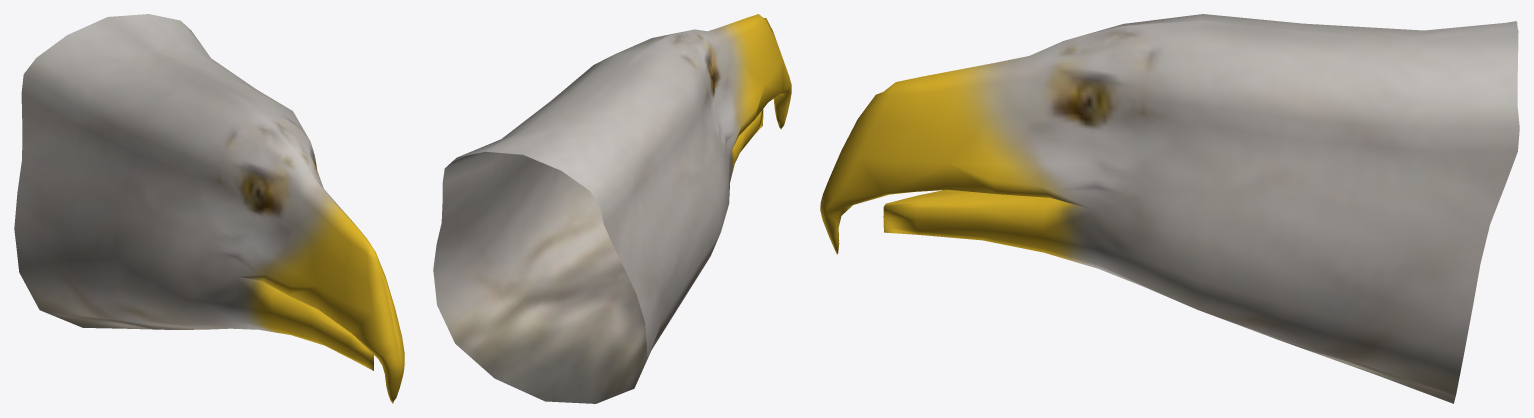
File: head.obj
The picture shows the model from 3 angles, left to right: view 1: azimuth 30°, elevation 25°; view 2: azimuth 150°, elevation 25°; view 3: azimuth 270°, elevation 25°; orthographic projection. The views are drawn at different scales.
Parts seen in each view (by area): view 1: Flugel_Plane.000; view 2: Flugel_Plane.000; view 3: Flugel_Plane.000.
Part boxes in pixels (x1,y1,x2,y2): Flugel_Plane.000: (14, 14, 404, 403); Flugel_Plane.000: (433, 14, 791, 403); Flugel_Plane.000: (820, 14, 1519, 403).
Size of the model in its own units: 0.5634 by 0.7098 by 1.23.
